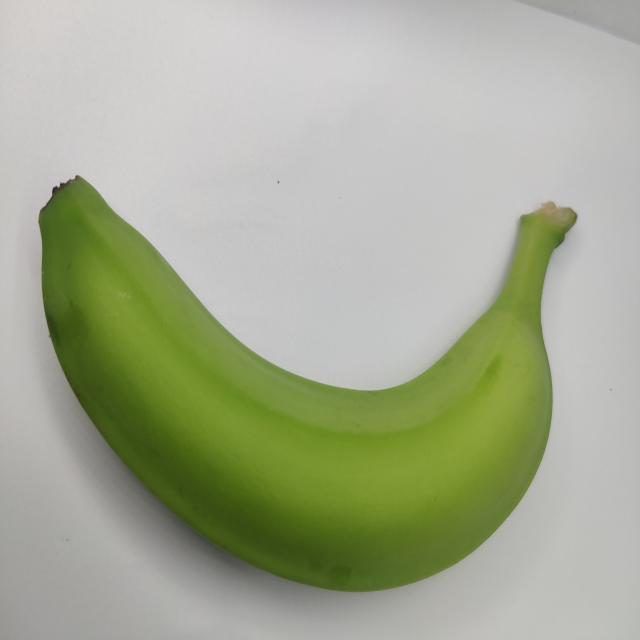raw: (19, 125, 593, 604)
